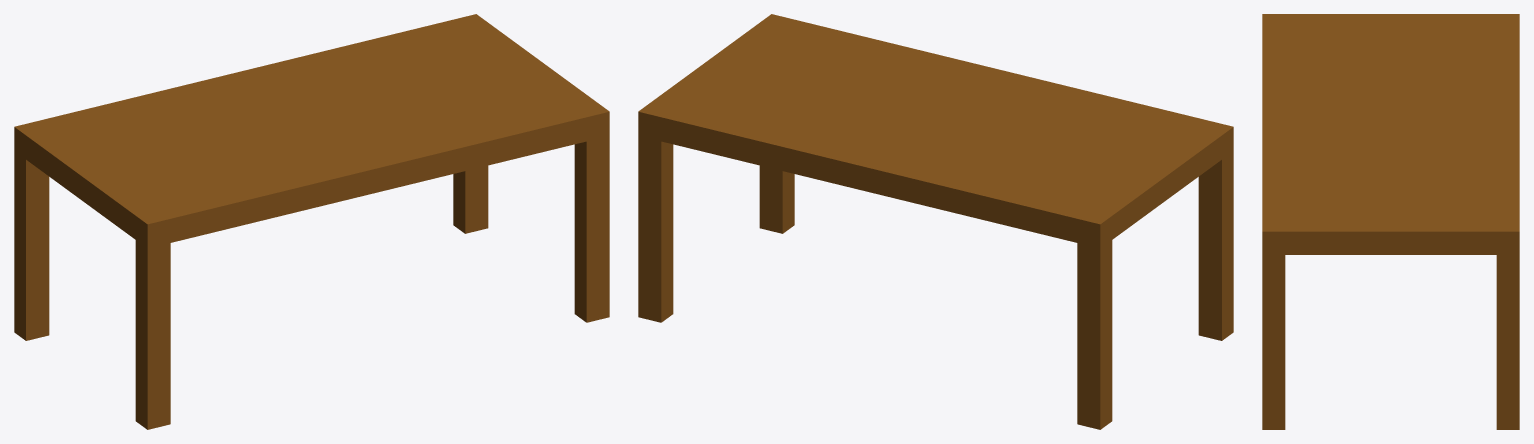
Rendered from Mesa.fbx.
3 views of the same model, side by side, from view 1: azimuth 30°, elevation 25°; view 2: azimuth 150°, elevation 25°; view 3: azimuth 270°, elevation 25° (orthographic). The views are drawn at different scales.
Parts seen in each view (by area): view 1: Cube; view 2: Cube; view 3: Cube.
Part boxes in pixels (x1,y1,x2,y2): Cube: (14, 14, 609, 429); Cube: (638, 14, 1233, 429); Cube: (1262, 14, 1519, 429).
Size of the model in its own units: 800 by 340 by 400.
